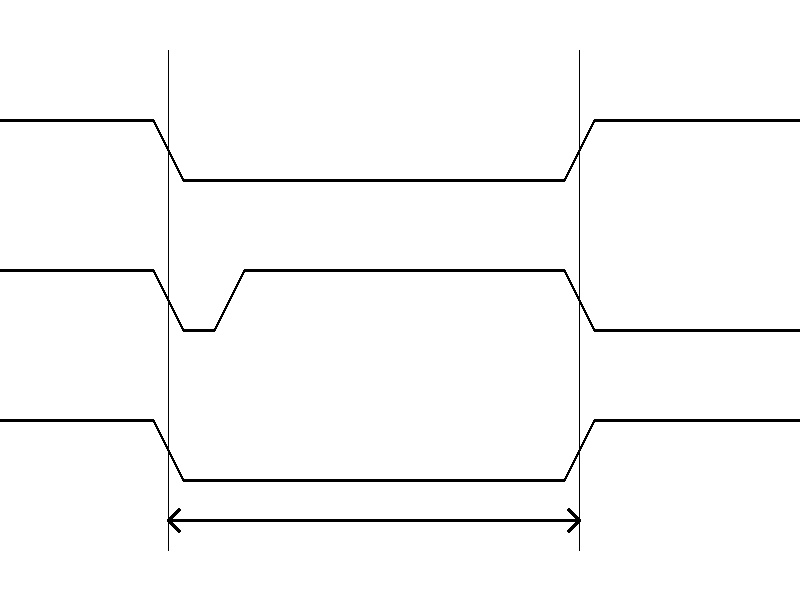double_arrow: (168, 505, 579, 535)
